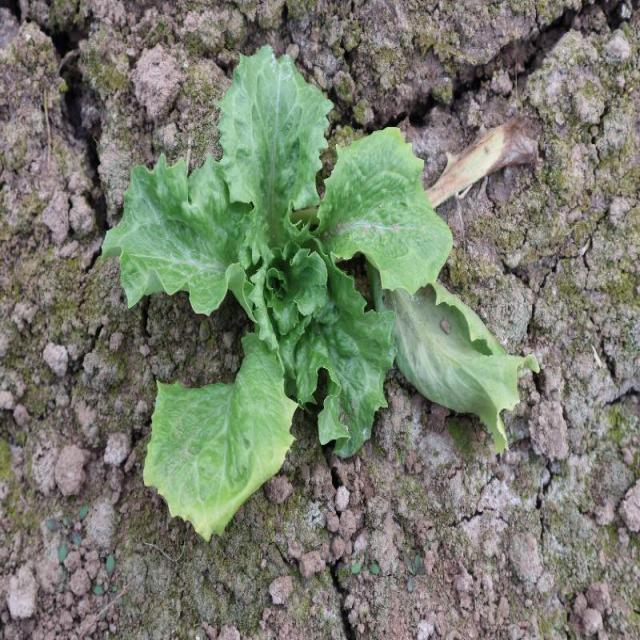crop: (106, 47, 453, 532)
